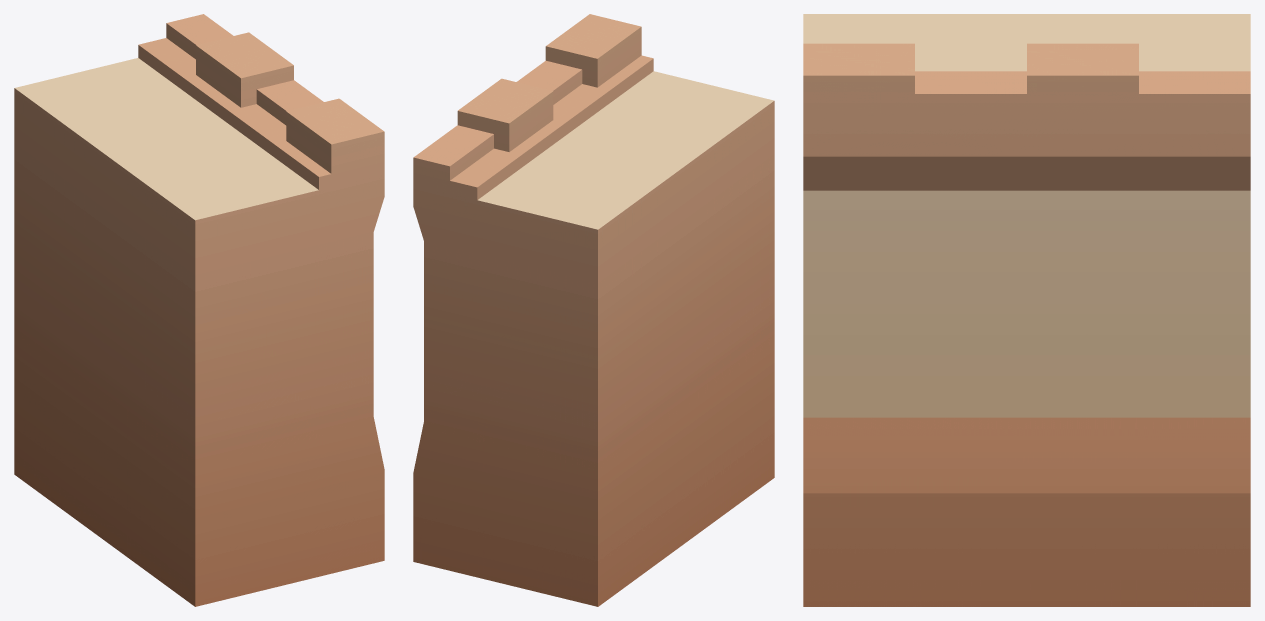
File: wall-half-modular.glb
3 renders of one model, left to right at view 1: azimuth 30°, elevation 25°; view 2: azimuth 150°, elevation 25°; view 3: azimuth 270°, elevation 25°, orthographic. The views are drawn at different scales.
Visible parts, largest first — view 1: wall-half-modular; view 2: wall-half-modular; view 3: wall-half-modular.
Boxes of the visible parts, x1,y1,x2,y2 form: wall-half-modular: (14, 14, 384, 606); wall-half-modular: (413, 14, 774, 606); wall-half-modular: (803, 14, 1250, 606).
Bounding box in the file's own units: 0.6046 × 1.31 × 1.
Materials: 1 (1 with a texture image).
